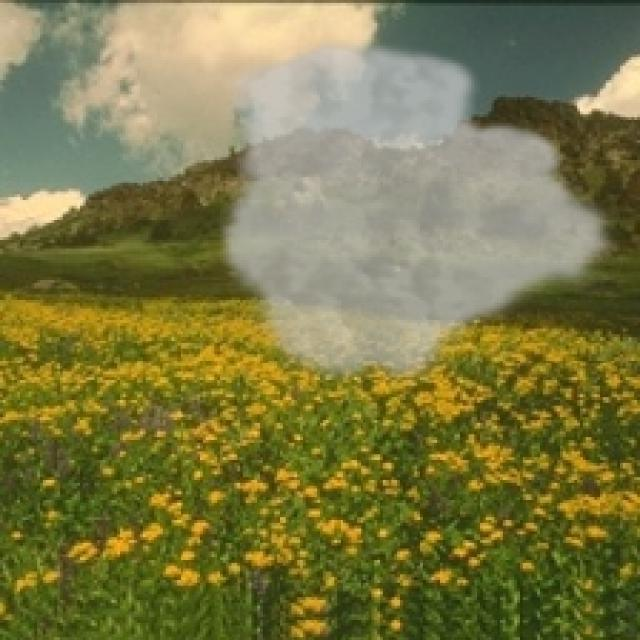Smoke: (215, 34, 620, 392)
